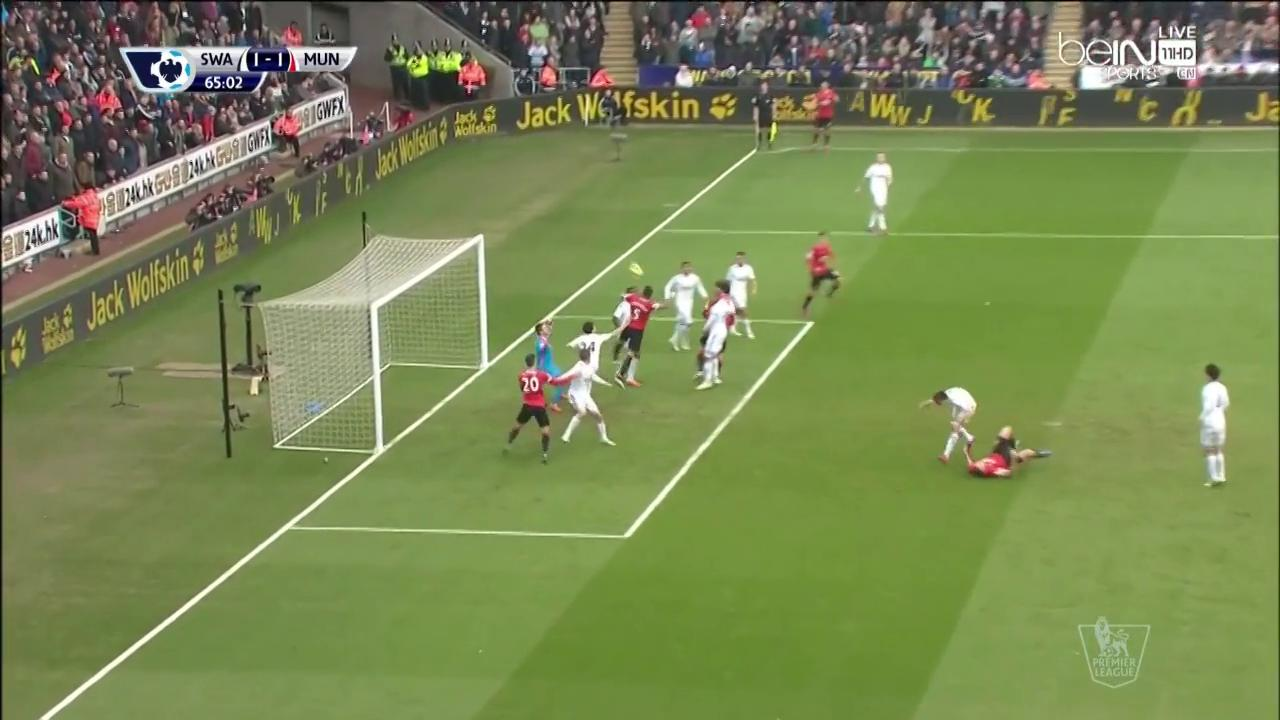football: (630, 262, 645, 279)
